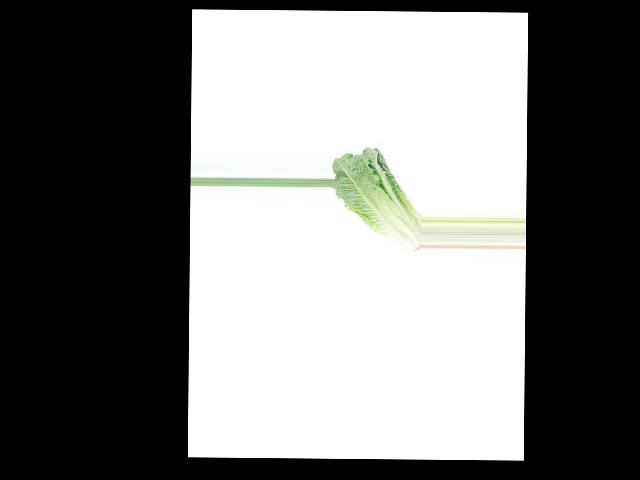lettuce: (331, 148, 422, 257)
